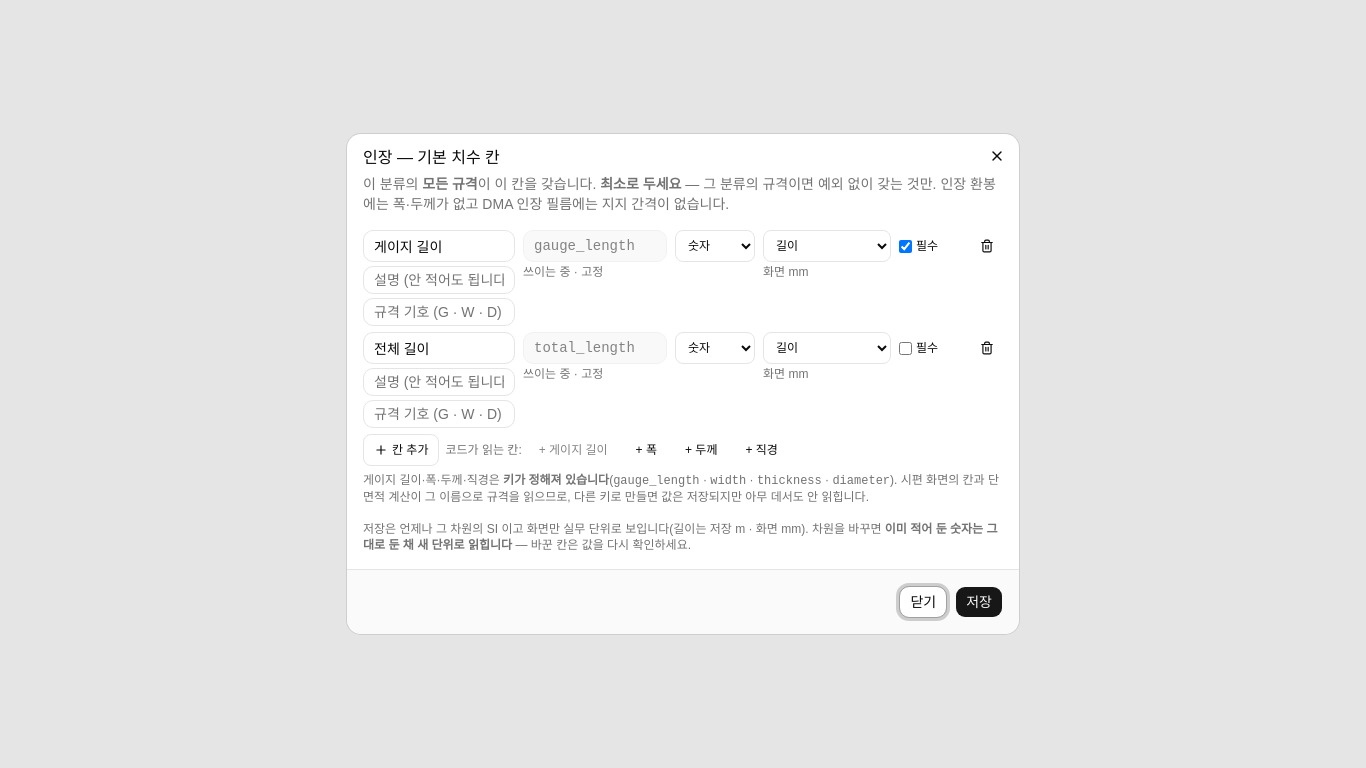
치수 칸 정의 › 새 칸은 이름에서 키를 만들어 준다
Expected: the field named "1번 칸 이름" is shown, x1=363 y1=230 x2=515 y2=262
Click the button "칸 추가" at point(401, 450), box x1=363 y1=434 x2=440 y2=466
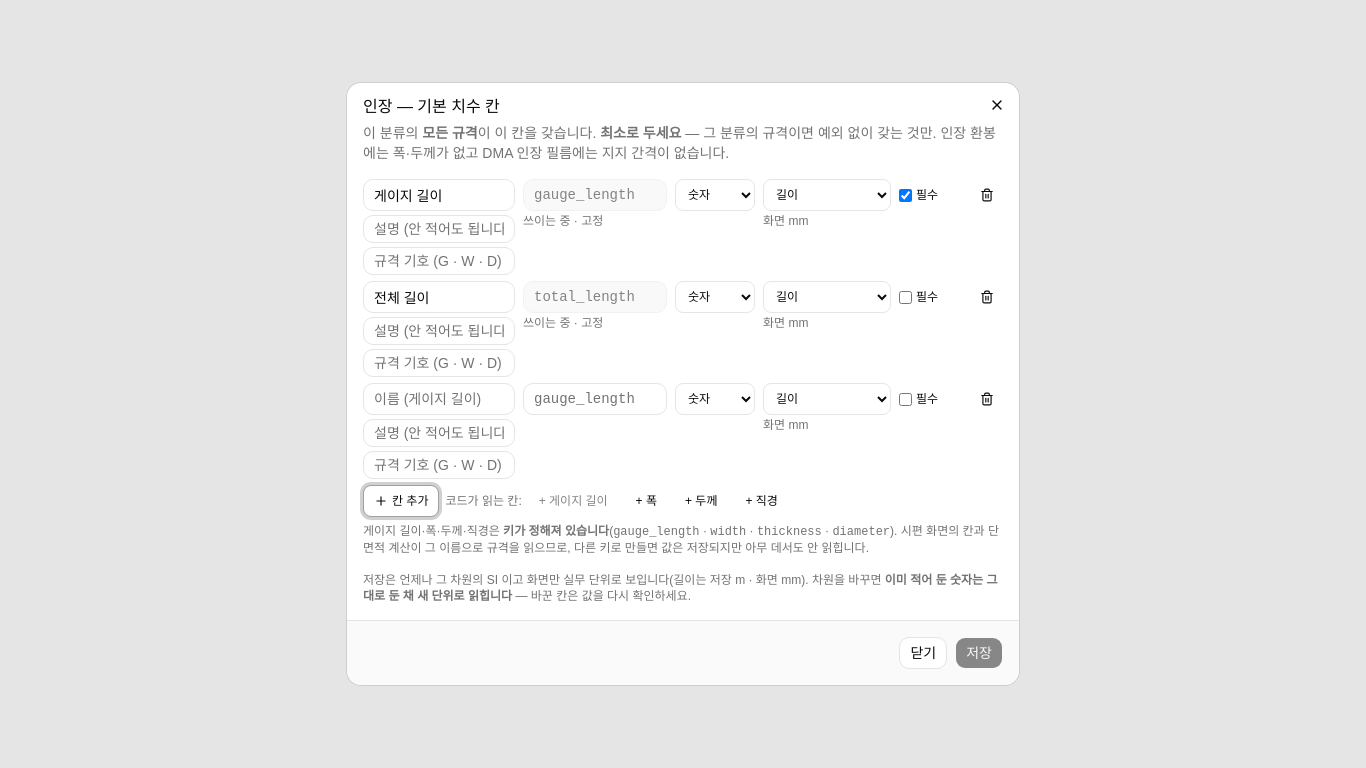
Type "grip length" into the field named "3번 칸 이름" at point(439, 399), box x1=363 y1=383 x2=515 y2=415
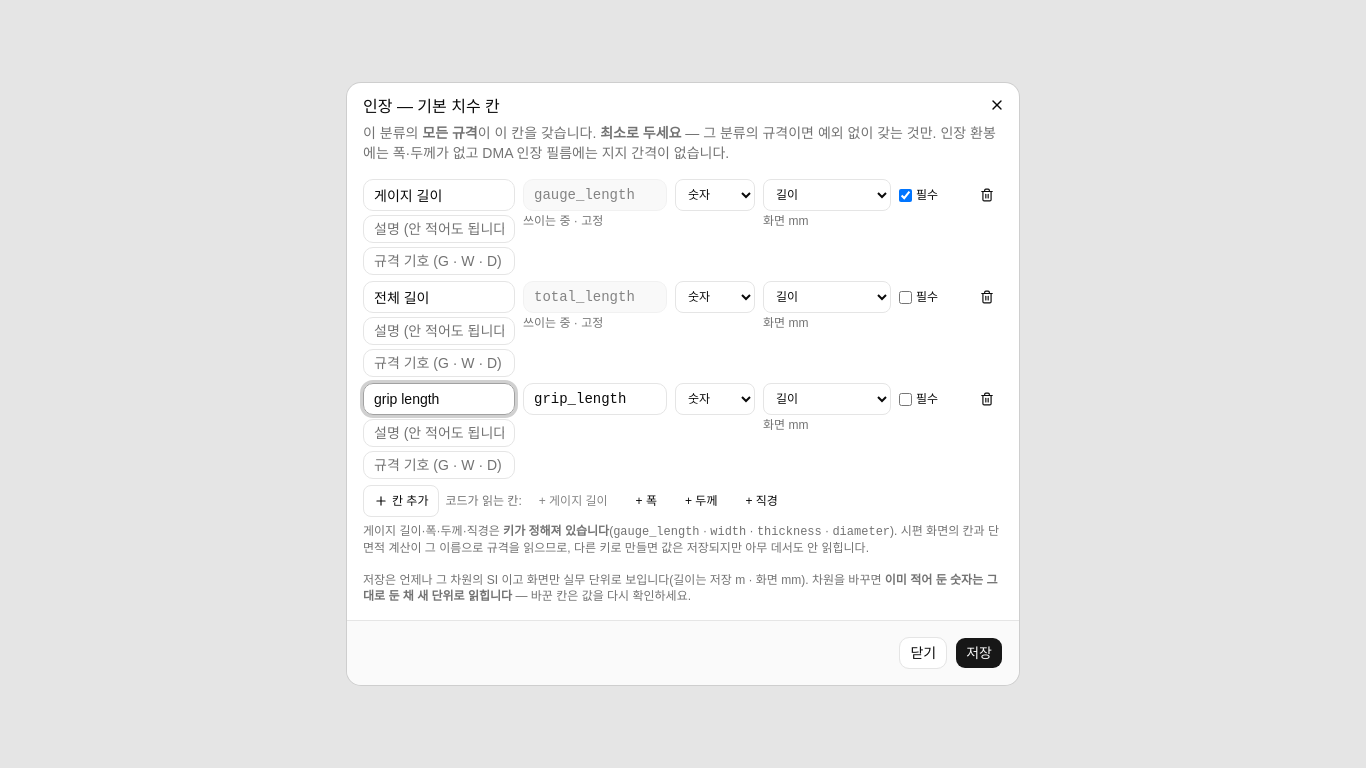
Result: the field named "3번 칸 키" holds "grip_length" at x1=523 y1=383 x2=667 y2=415
